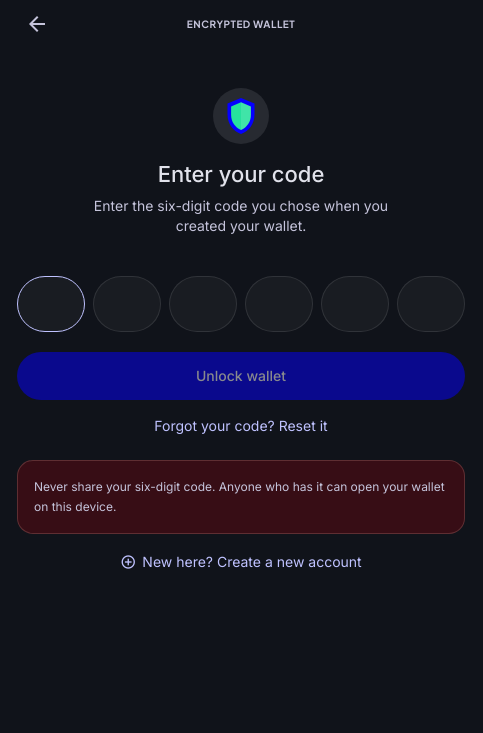
Test: refuses to save when the two codes do not match
The width and height of the screenshot is (483, 733).
Click the button "Forgot your code? Reset it" at (241, 426), box [17,416,465,436]
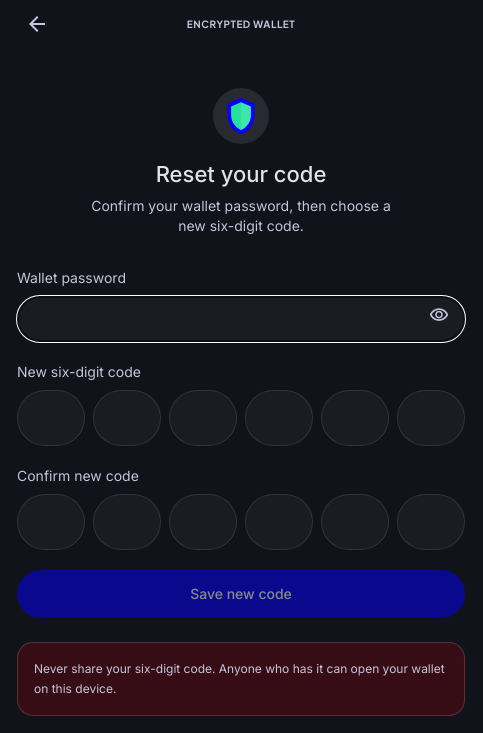
Type "correct horse" into the password field labelled "Wallet password" at (241, 319), box [17,296,465,342]
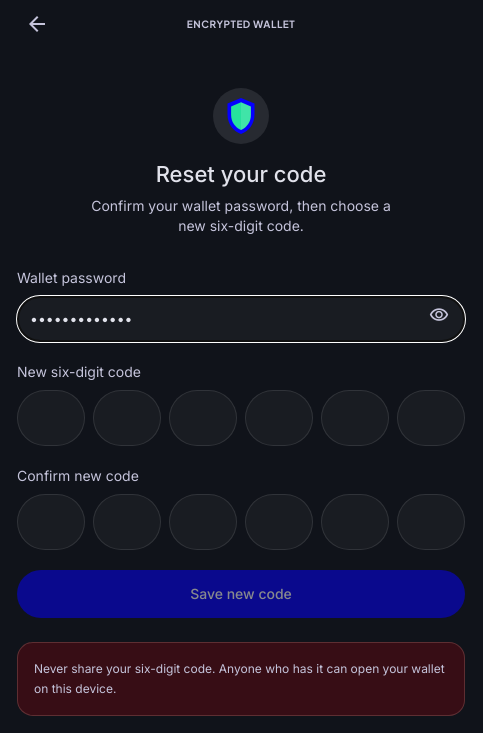
Type "654321" into the password field named "New six-digit code digit 1" at (51, 418), box [17,390,85,446]
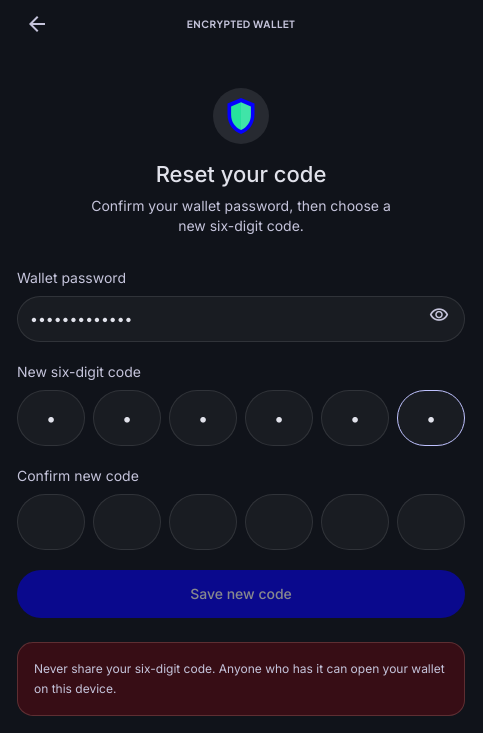
Type "123456" into the password field named "Confirm new six-digit code digit 1" at (51, 522), box [17,494,85,550]
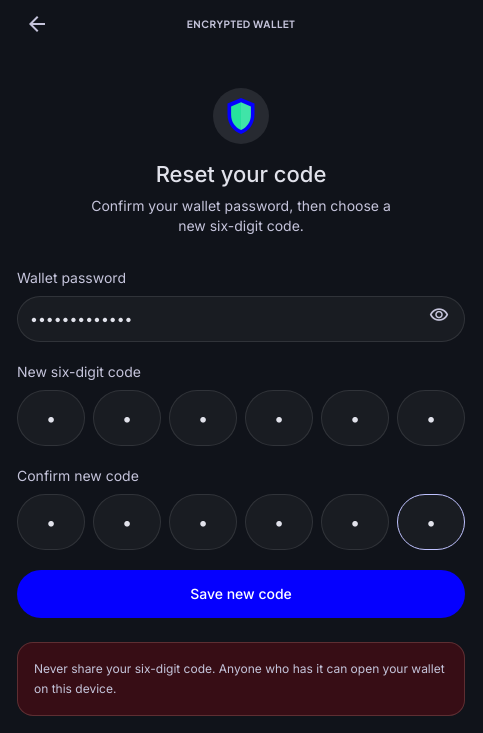
Click the button "Save new code" at (241, 594), box [17,570,465,618]
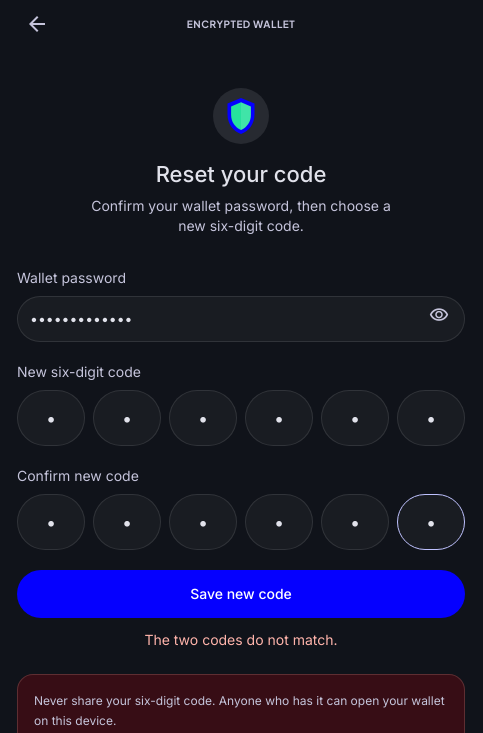
Now the text "The two codes do not match." is shown, box [144,631,338,648]
